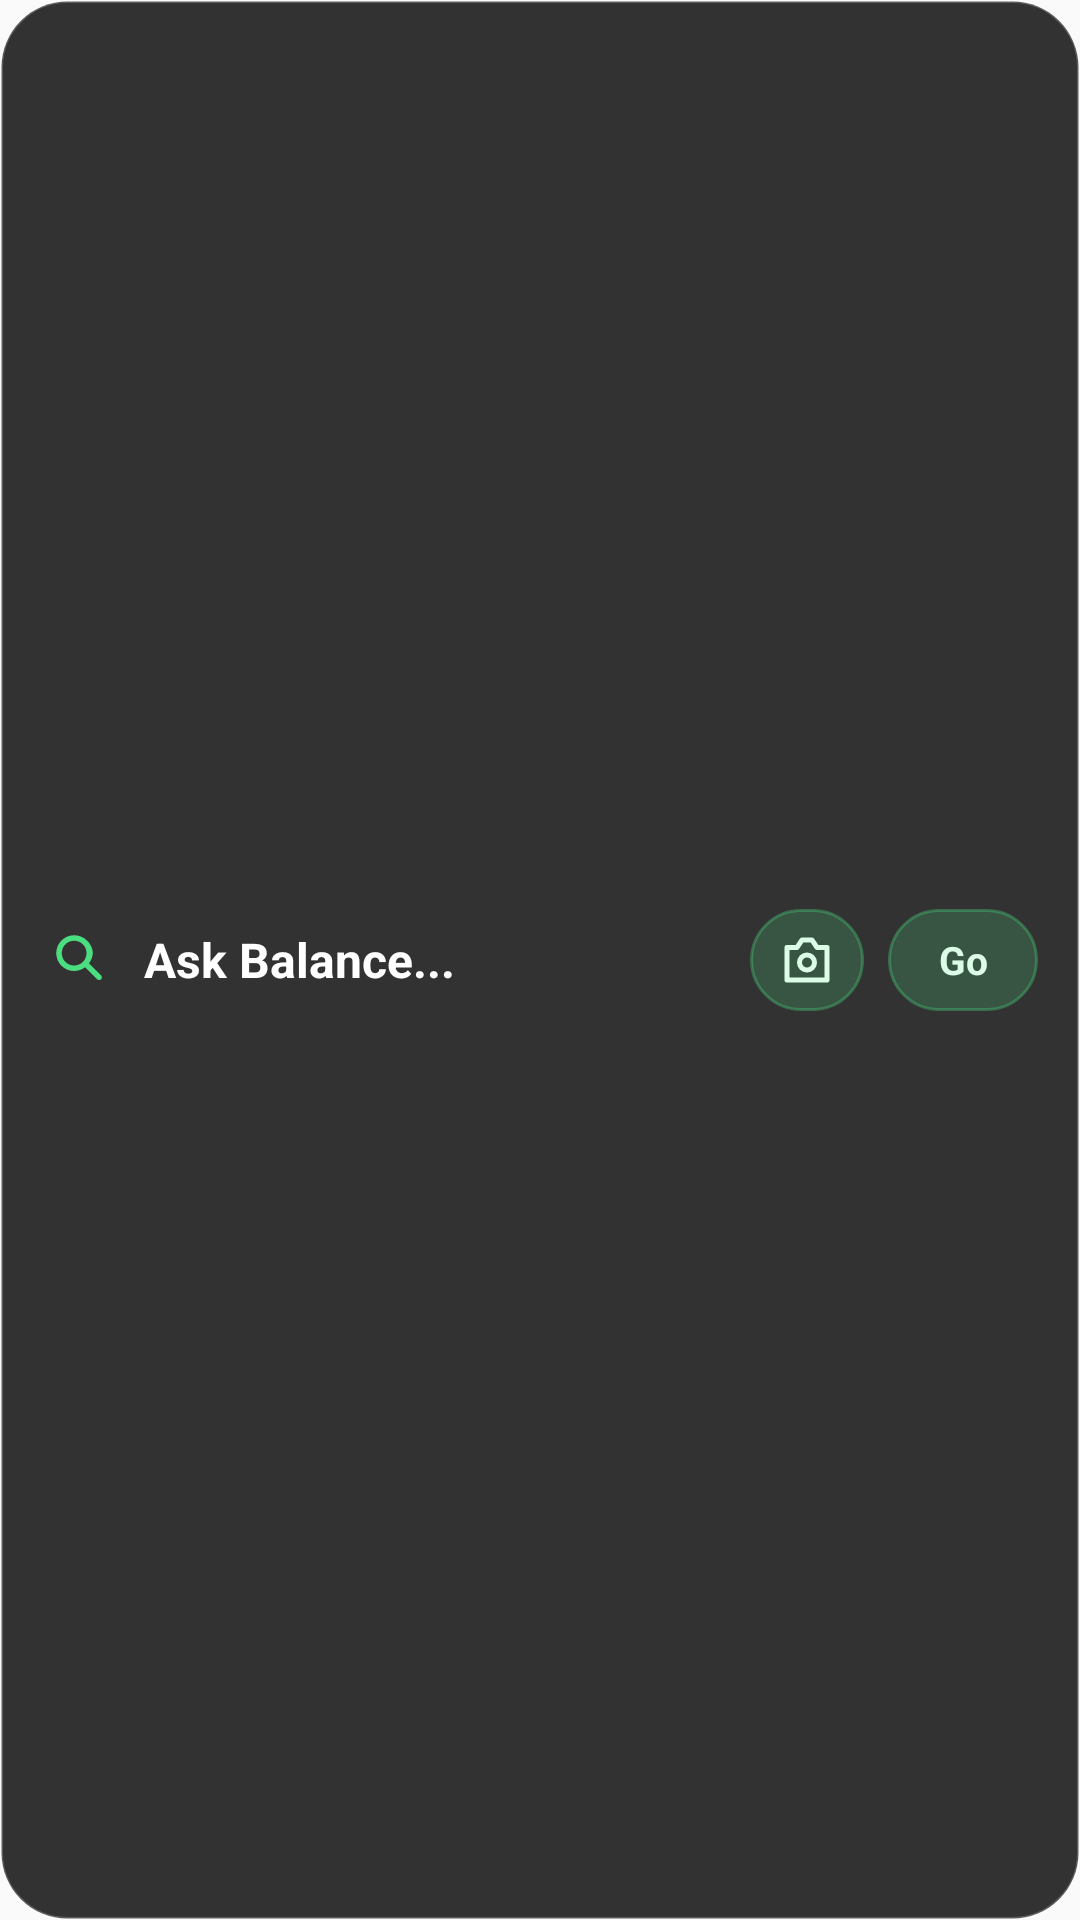

Icon click points for this 1080 x 1920 phone screenshot, format (x=x, y=y):
Open meal camera: (x=807, y=960)
